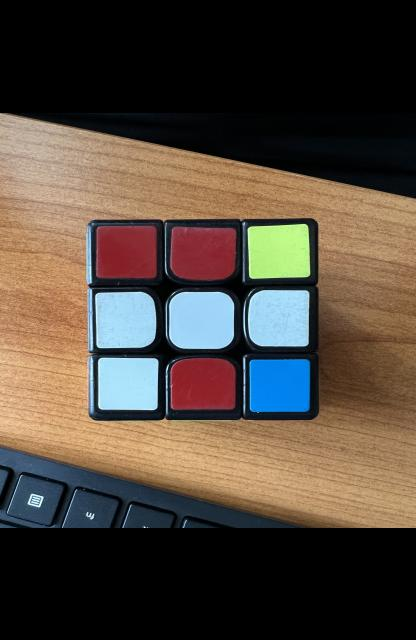Blue: (249, 358, 310, 411)
Red: (170, 226, 237, 280), (170, 357, 236, 409), (97, 225, 157, 278)
White: (169, 291, 234, 348), (248, 289, 309, 346), (96, 291, 157, 347), (98, 357, 159, 409)
Yellow: (248, 222, 310, 278)
